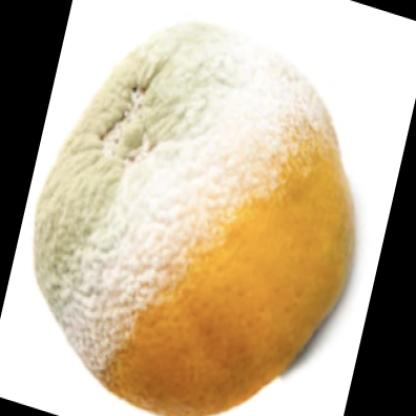rotten: (32, 33, 361, 416)
